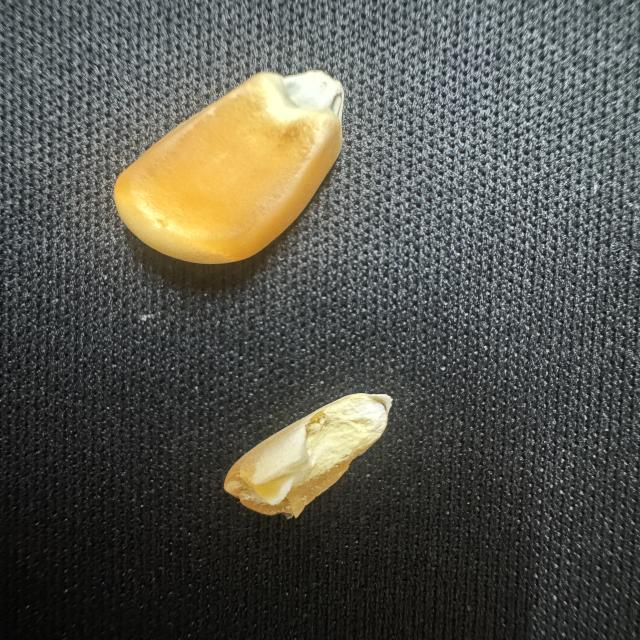Bad-Seed: (214, 388, 435, 538)
Good-Seed: (108, 59, 367, 287)
